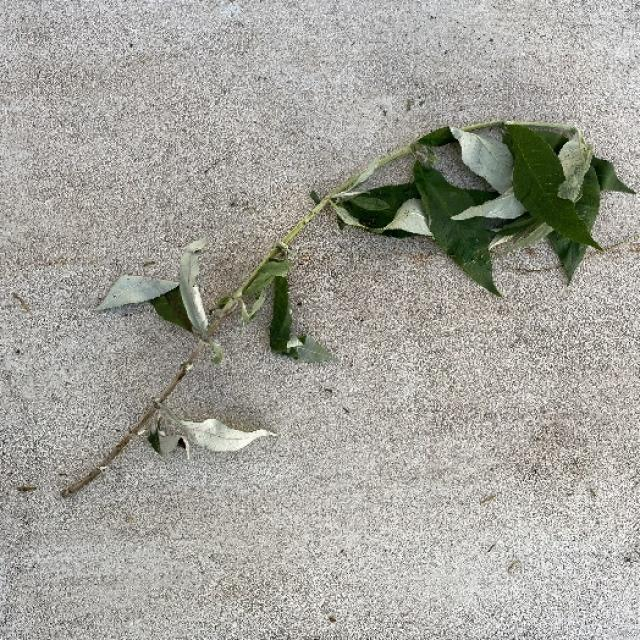organik: (65, 115, 618, 527)
